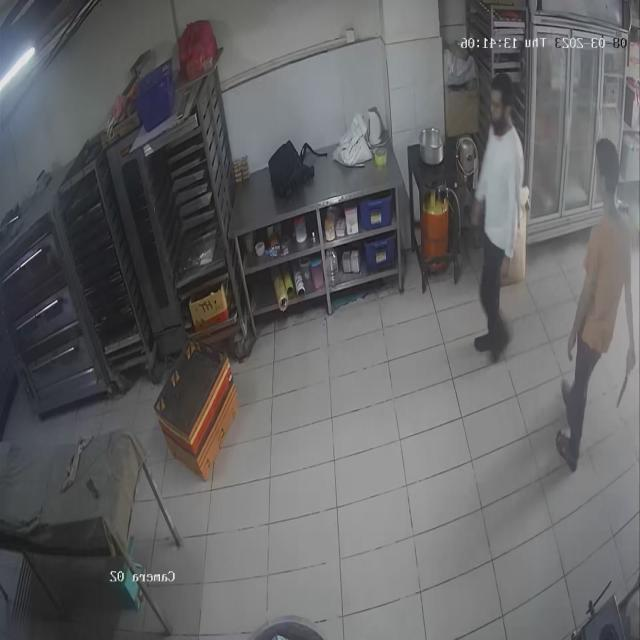Knife: (614, 353, 634, 415)
